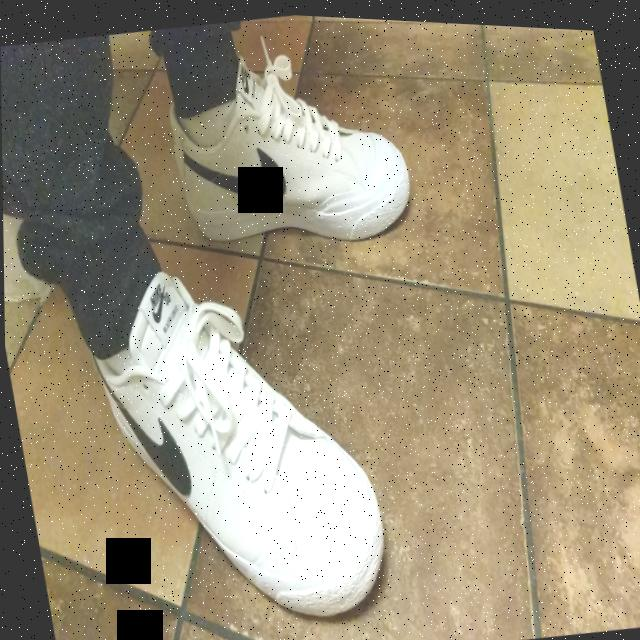shoes: (58, 246, 402, 640), (155, 30, 426, 283)
